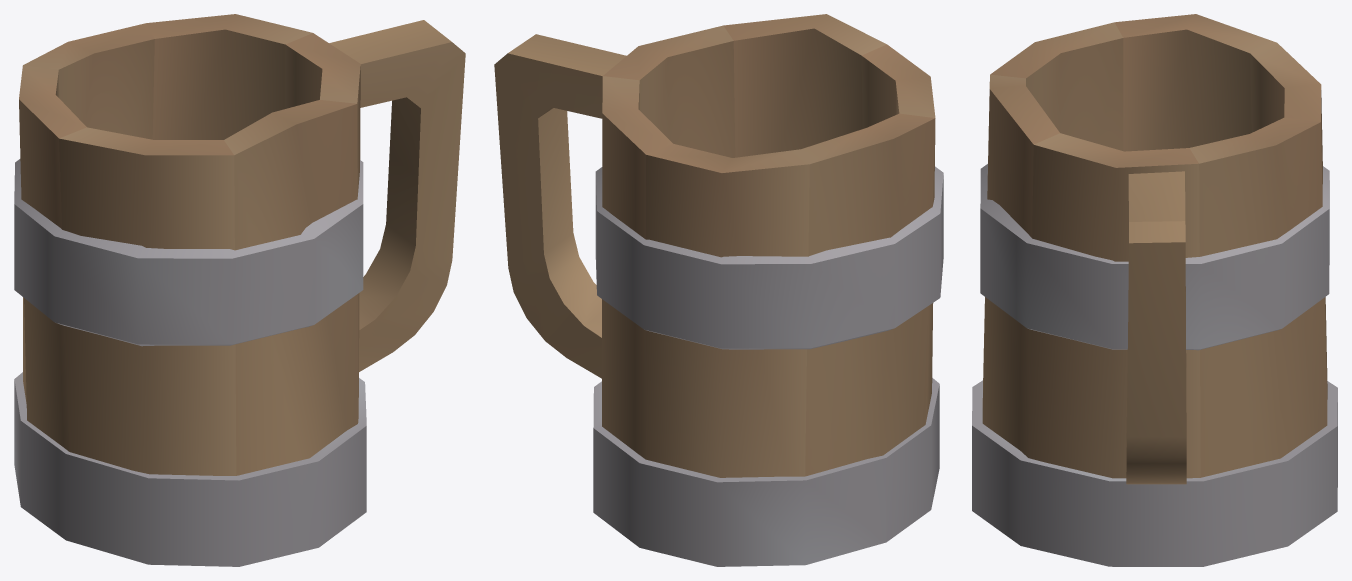
The model's file is Mug.glb.
3 views of the same model, side by side, from view 1: azimuth 30°, elevation 25°; view 2: azimuth 150°, elevation 25°; view 3: azimuth 270°, elevation 25° (orthographic). The views are drawn at different scales.
Parts seen in each view (by area): view 1: Mug_ac43f3, Mug_f8396c; view 2: Mug_ac43f3, Mug_f8396c; view 3: Mug_ac43f3, Mug_f8396c.
Boxes of the visible parts, x1,y1,x2,y2 form: Mug_ac43f3: (19,14,465,475); Mug_f8396c: (14,159,366,566); Mug_ac43f3: (494,14,935,477); Mug_f8396c: (593,166,943,566); Mug_ac43f3: (982,14,1327,484); Mug_f8396c: (972,164,1337,566).
Bounding box in the file's own units: 0.1921 × 0.1839 × 0.1468.
